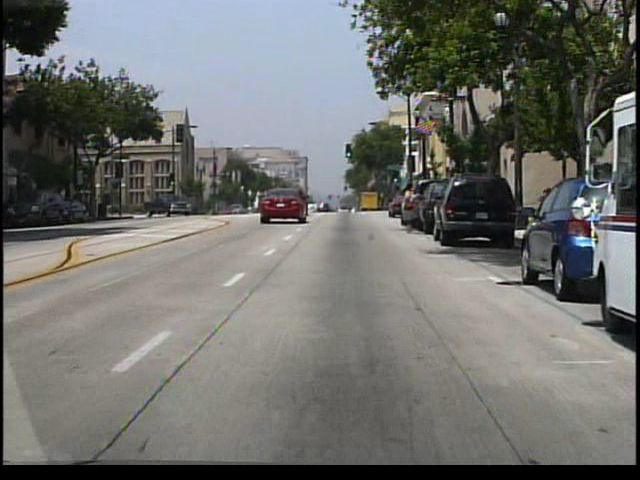person: (398, 181, 425, 235)
